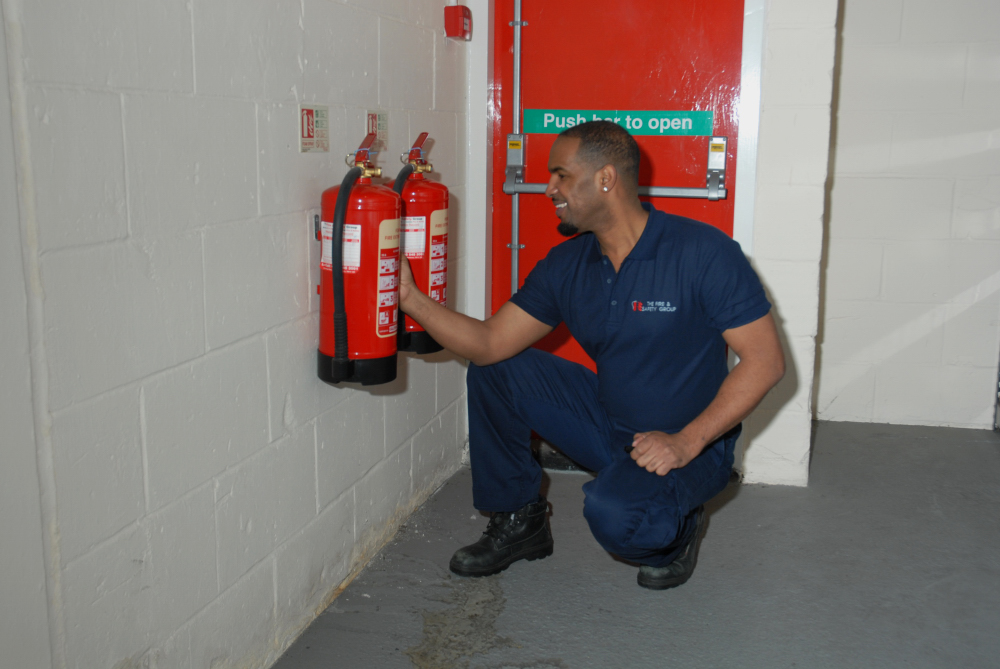fire: (317, 133, 401, 383), (383, 133, 446, 353)
